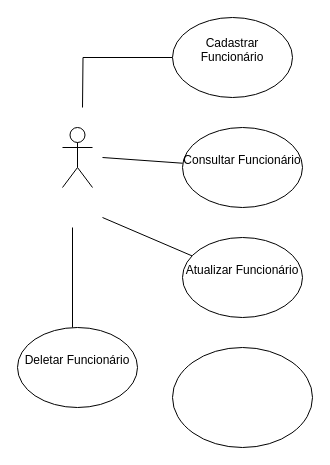
Image size: 330x465. Some labels were removed from this diagram. Here are the shapes that lost their labels. From the top down, the centre of each, then its label:
At [77,157]: "Usuario".
At [242,397]: "Solicitar Confirmação de Exclusão".
